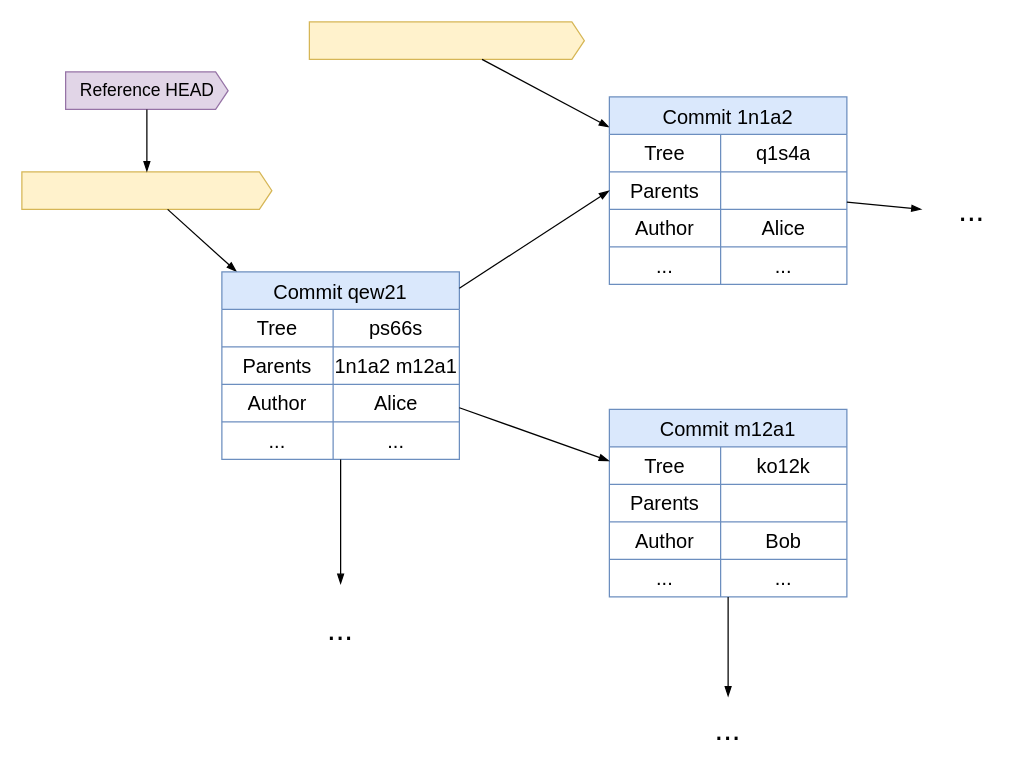
Image size: 1031x769. Some labels were removed from this diagram. Here are the shapes that lost their labels. From the top down, the centre of each, then its label:
At point 446,40: "Reference refs/heads/foo-branch".
At point 146,190: "Reference refs/heads/master".
